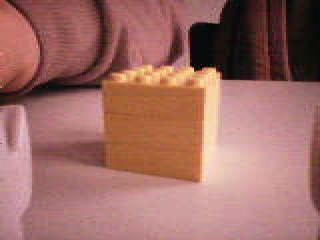legocube: (97, 62, 225, 183)
